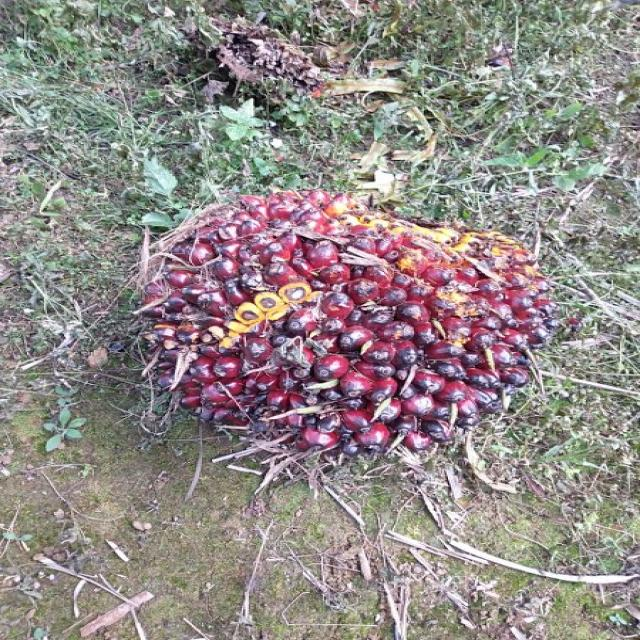fraksi 1: (146, 131, 592, 509)
